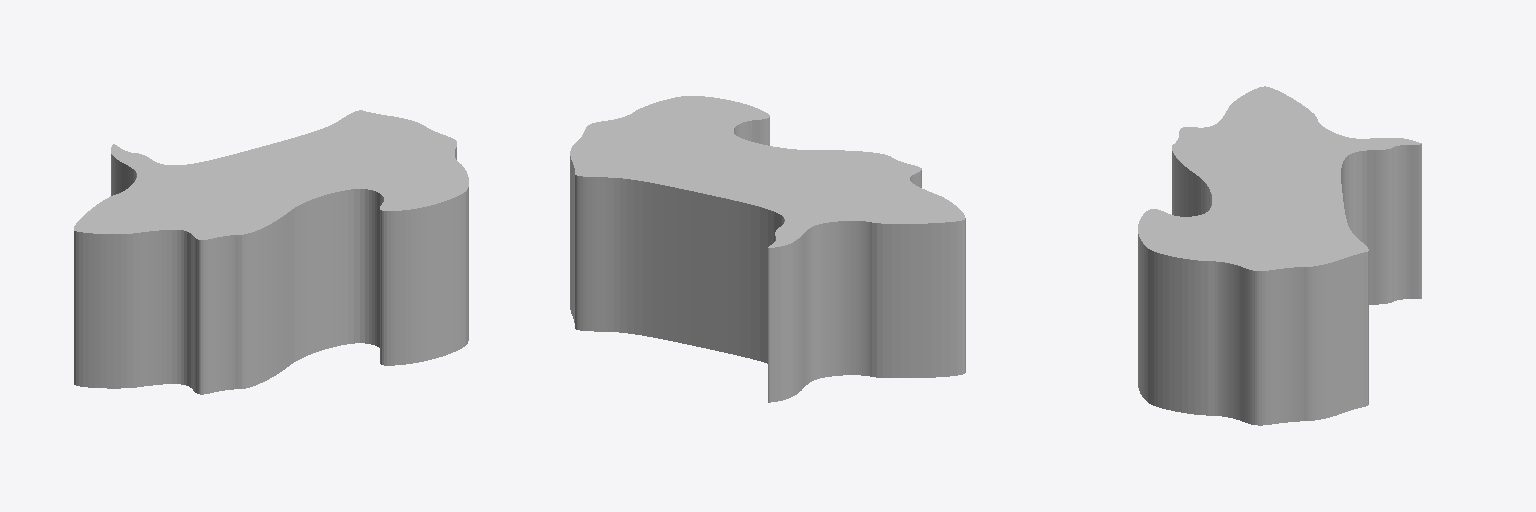
Rendered from Europe_03.obj.
3 renders of one model, left to right at view 1: azimuth 30°, elevation 25°; view 2: azimuth 150°, elevation 25°; view 3: azimuth 270°, elevation 25°, orthographic.
Parts seen in each view (by area): view 1: Europe_03_path4240; view 2: Europe_03_path4240; view 3: Europe_03_path4240.
Boxes of the visible parts, box(x1,y1,x2,y2) form: Europe_03_path4240: box(74, 110, 468, 394); Europe_03_path4240: box(570, 96, 965, 402); Europe_03_path4240: box(1138, 86, 1421, 425).
Size of the model in its own units: 0.2567 by 0.1 by 0.1669.